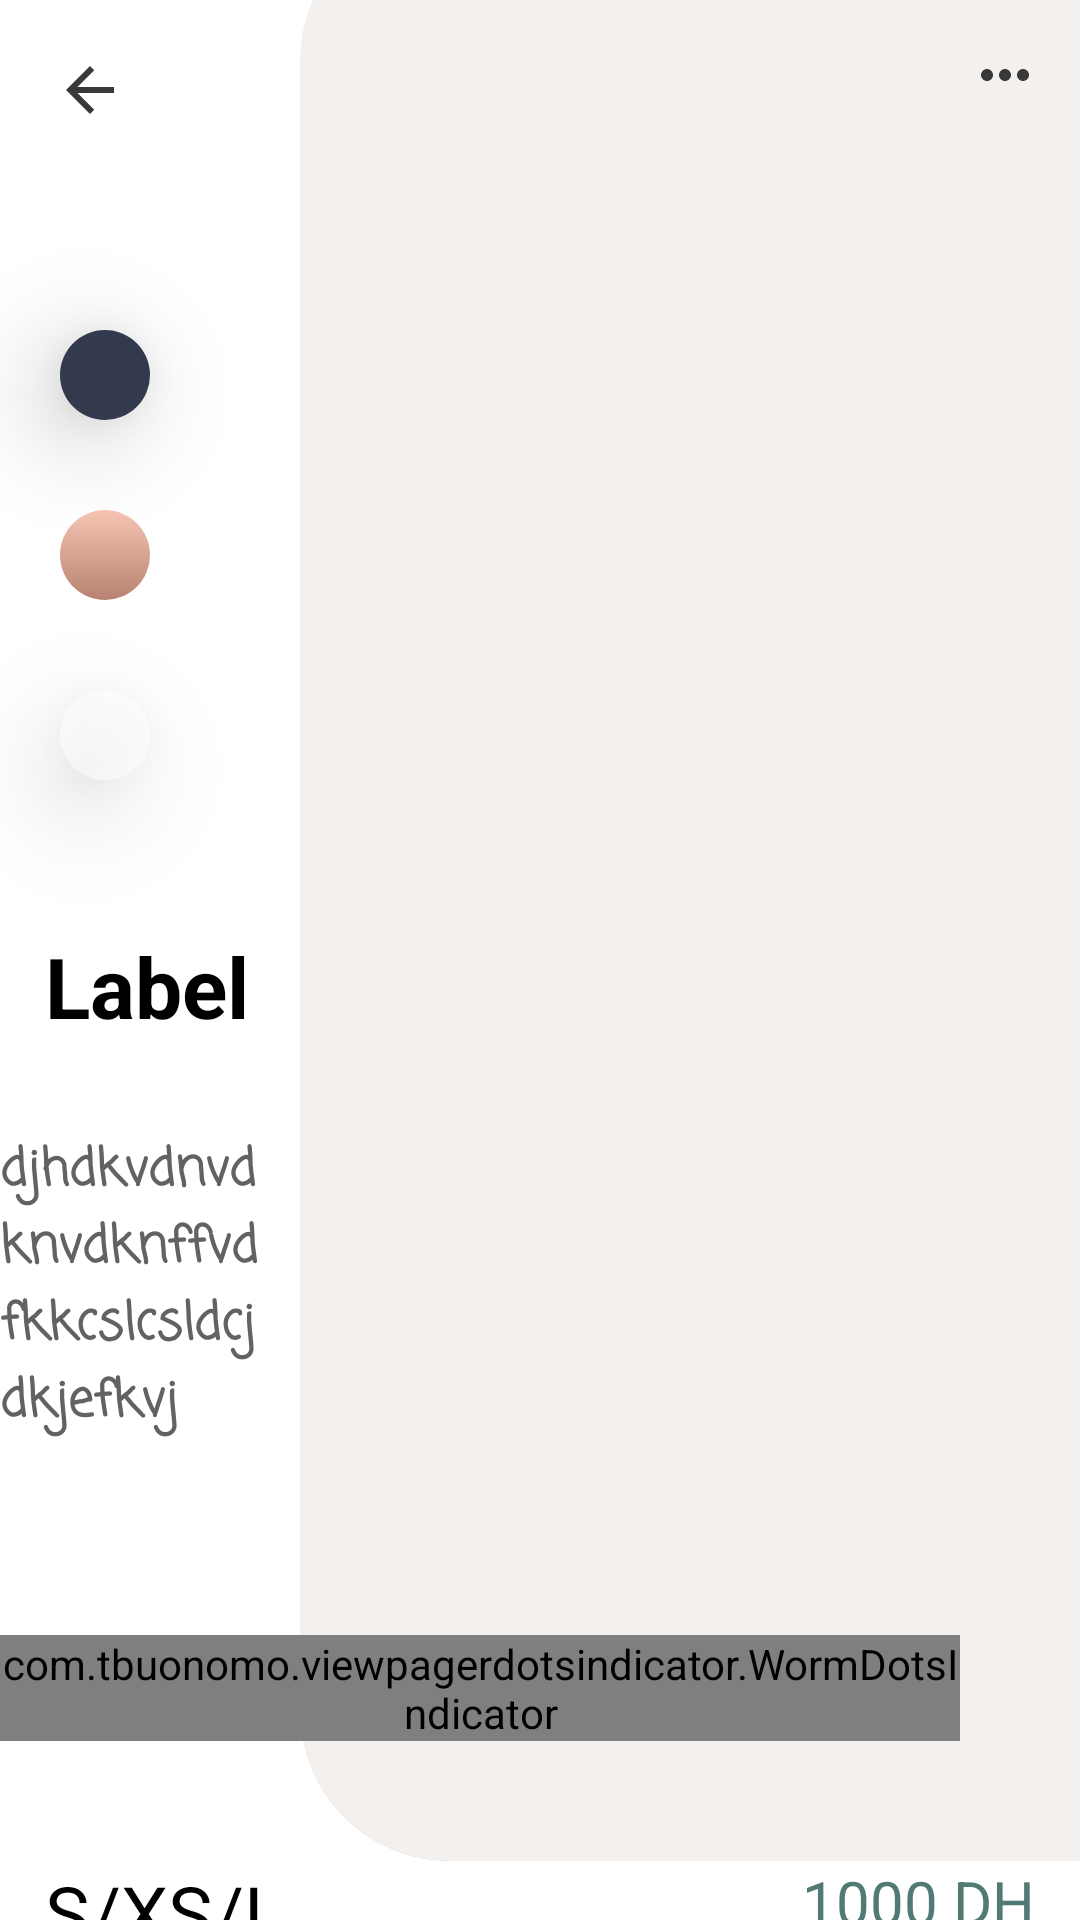

Named icons in this screenshot (1080w x 1920h) and their centers, [x,y]:
arrow back: [90,90]
more: [1005,75]
